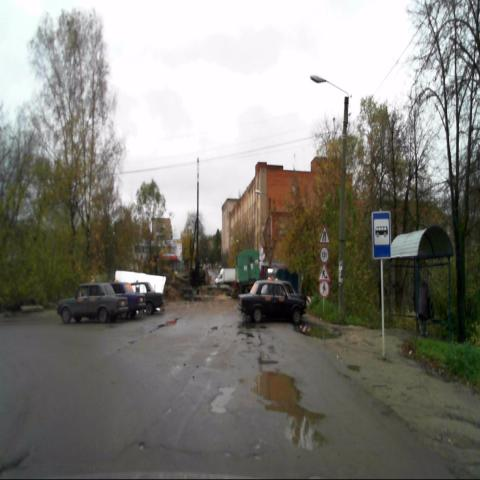1_20_3: (319, 226, 330, 245)
1_25: (317, 263, 331, 282)
3_10: (318, 281, 330, 298)
3_11: (319, 245, 329, 263)
5_16: (372, 211, 392, 259)
